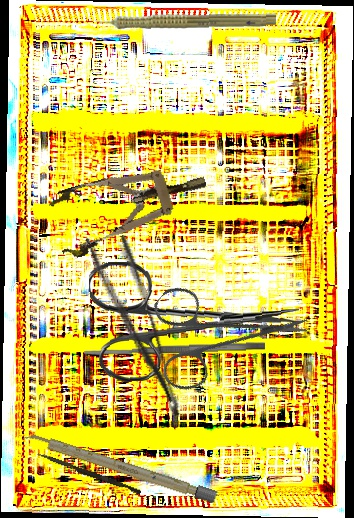Dressing Forceps: (87, 233, 185, 428)
Handpiece: (83, 5, 277, 33)
Iris Scissors: (121, 239, 313, 430), (88, 252, 302, 384)
Pusher: (35, 452, 143, 495)
Scalpel Handle: (21, 429, 219, 504)
Spatula Surgical: (83, 340, 266, 358)
Speculum: (45, 149, 216, 262)
